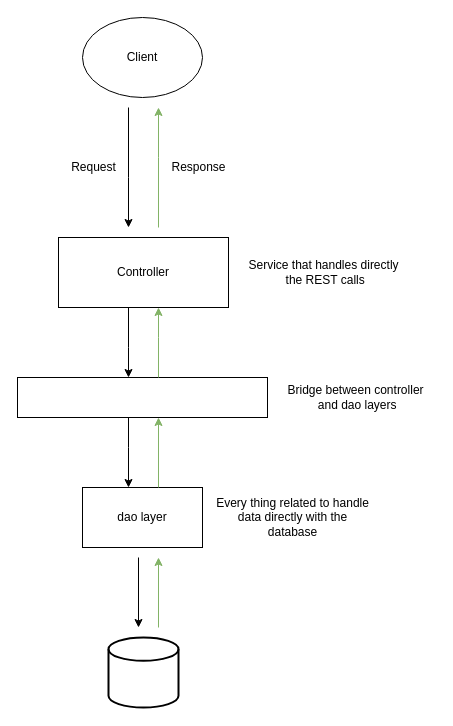
Image size: 453x726. Some labels were removed from this diagram. The centre of each missing label's shape, as x and y in pixels:
"PostgreSQL" goes at [143,672].
"service layer" goes at [142,397].
